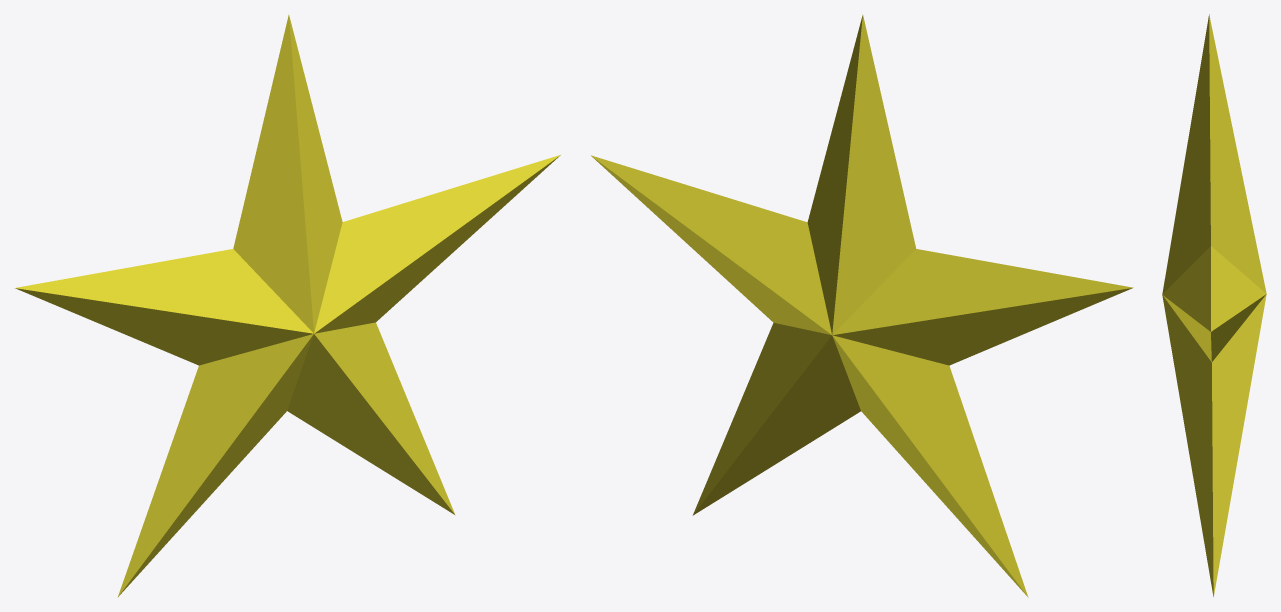
The model's file is star.glb.
3 views of the same model, side by side, from view 1: azimuth 30°, elevation 25°; view 2: azimuth 150°, elevation 25°; view 3: azimuth 270°, elevation 25° (orthographic). The views are drawn at different scales.
Parts seen in each view (by area): view 1: 円; view 2: 円; view 3: 円.
Part boxes in pixels (x1,y1,x2,y2): 円: (15, 14, 560, 597); 円: (591, 14, 1133, 597); 円: (1162, 14, 1266, 596).
Bounding box in the file's own units: 1.9 × 1.81 × 0.3375.
